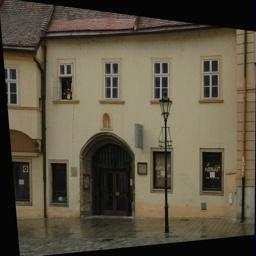building: (0, 4, 256, 231)
